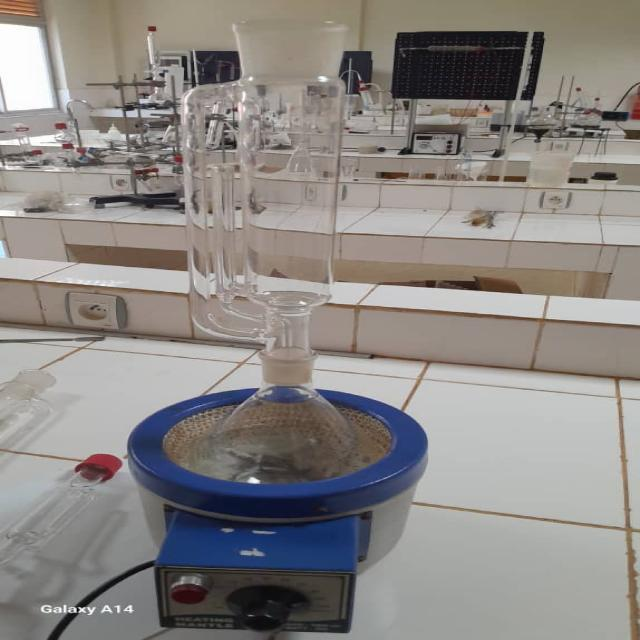Soxhlet: (172, 7, 402, 482)
